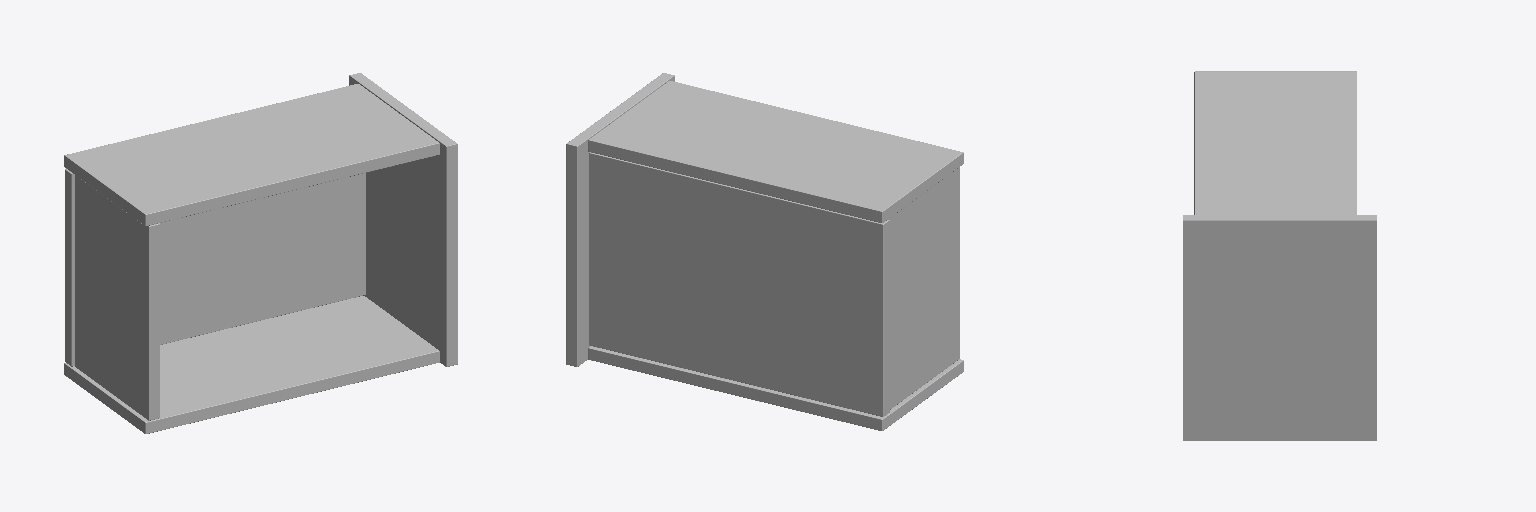
Rendered from CoffeeTableDrawer.obj.
3 views of the same model, side by side, from view 1: azimuth 30°, elevation 25°; view 2: azimuth 150°, elevation 25°; view 3: azimuth 270°, elevation 25° (orthographic).
Visible parts, largest first — view 1: CoffeeTableDrawer; view 2: CoffeeTableDrawer; view 3: CoffeeTableDrawer.
Part boxes in pixels (left/top/right/bottom): CoffeeTableDrawer: left=64, top=73, right=457, bottom=433; CoffeeTableDrawer: left=566, top=73, right=963, bottom=430; CoffeeTableDrawer: left=1183, top=71, right=1376, bottom=440.
Bounding box in the file's own units: 57.45 × 39.6 × 31.6.